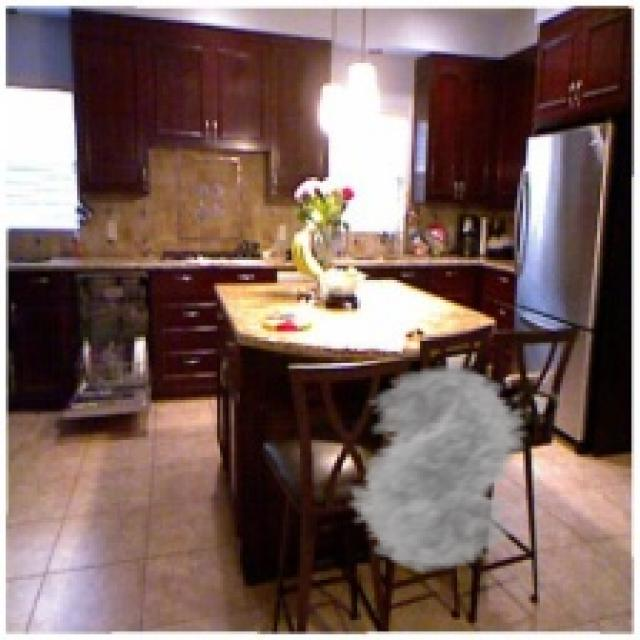smoke: (332, 363, 552, 574)
